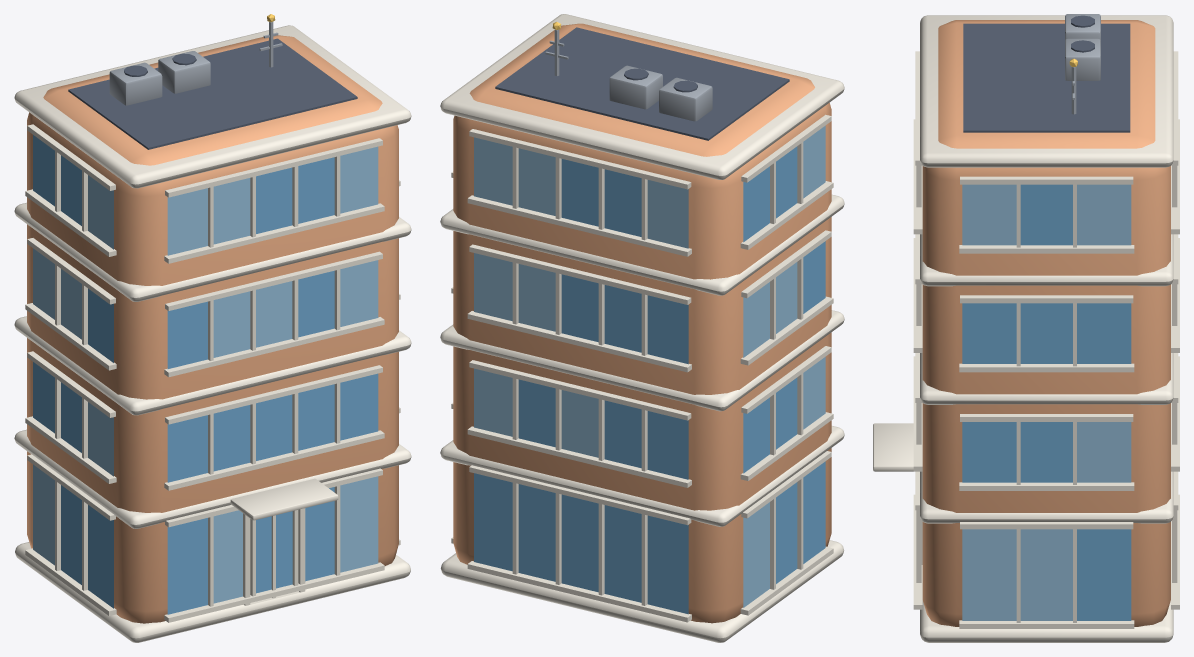
The model's file is building_office.glb.
3 renders of one model, left to right at view 1: azimuth 30°, elevation 25°; view 2: azimuth 150°, elevation 25°; view 3: azimuth 270°, elevation 25°, orthographic. The views are drawn at different scales.
Parts seen in each view (by area): view 1: building; view 2: building; view 3: building.
Boxes of the visible parts, x1,y1,x2,y2 form: building: (14, 14, 411, 642); building: (440, 14, 844, 642); building: (873, 14, 1179, 642).
Size of the model in its own units: 7.8 by 13.49 by 6.8.
